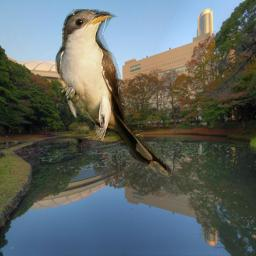Cuckoo: (55, 9, 174, 181)
